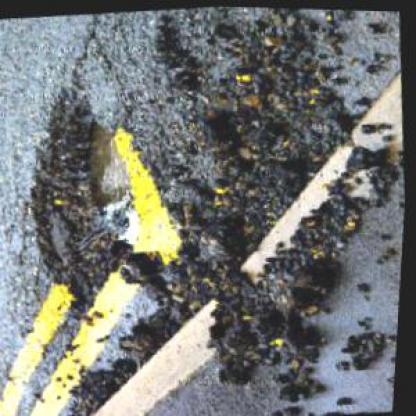pothole: (11, 78, 146, 316)
